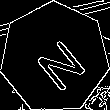N_NW: (24, 25, 86, 90)
